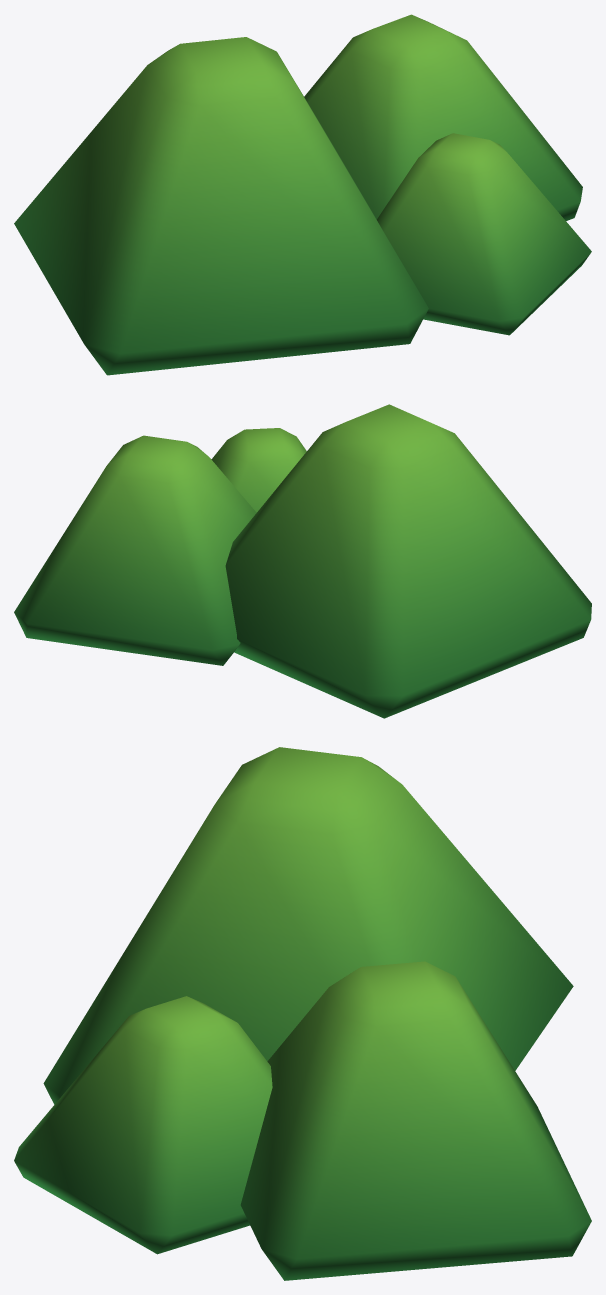
Rendered from Bush_4_D_Color1.glb.
The picture shows the model from 3 angles, top to bottom: view 1: azimuth 30°, elevation 25°; view 2: azimuth 150°, elevation 25°; view 3: azimuth 270°, elevation 25°; orthographic projection. The views are drawn at different scales.
Parts seen in each view (by area): view 1: Bush_4_D_Color1; view 2: Bush_4_D_Color1; view 3: Bush_4_D_Color1.
Part boxes in pixels (left/top/right/bottom): Bush_4_D_Color1: left=14, top=14, right=591, bottom=375; Bush_4_D_Color1: left=14, top=404, right=591, bottom=718; Bush_4_D_Color1: left=14, top=747, right=591, bottom=1280.
Size of the model in its own units: 1.74 by 0.7434 by 1.29.
1 material, 1 textured.
